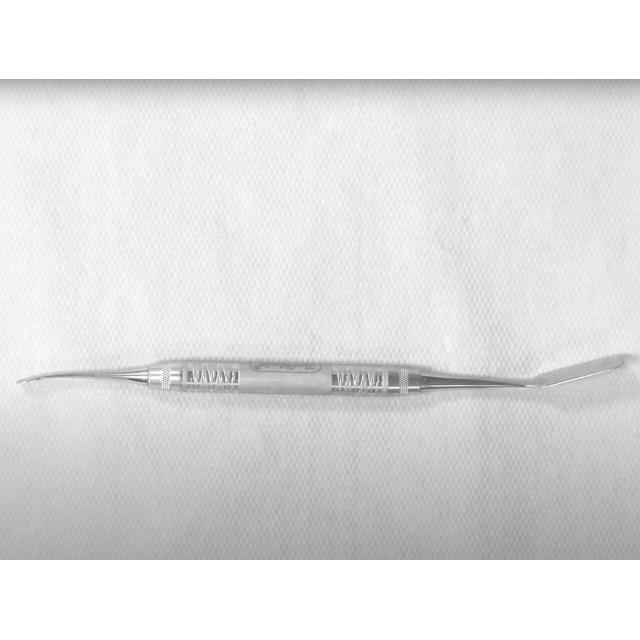elevador: (23, 356, 633, 399)
